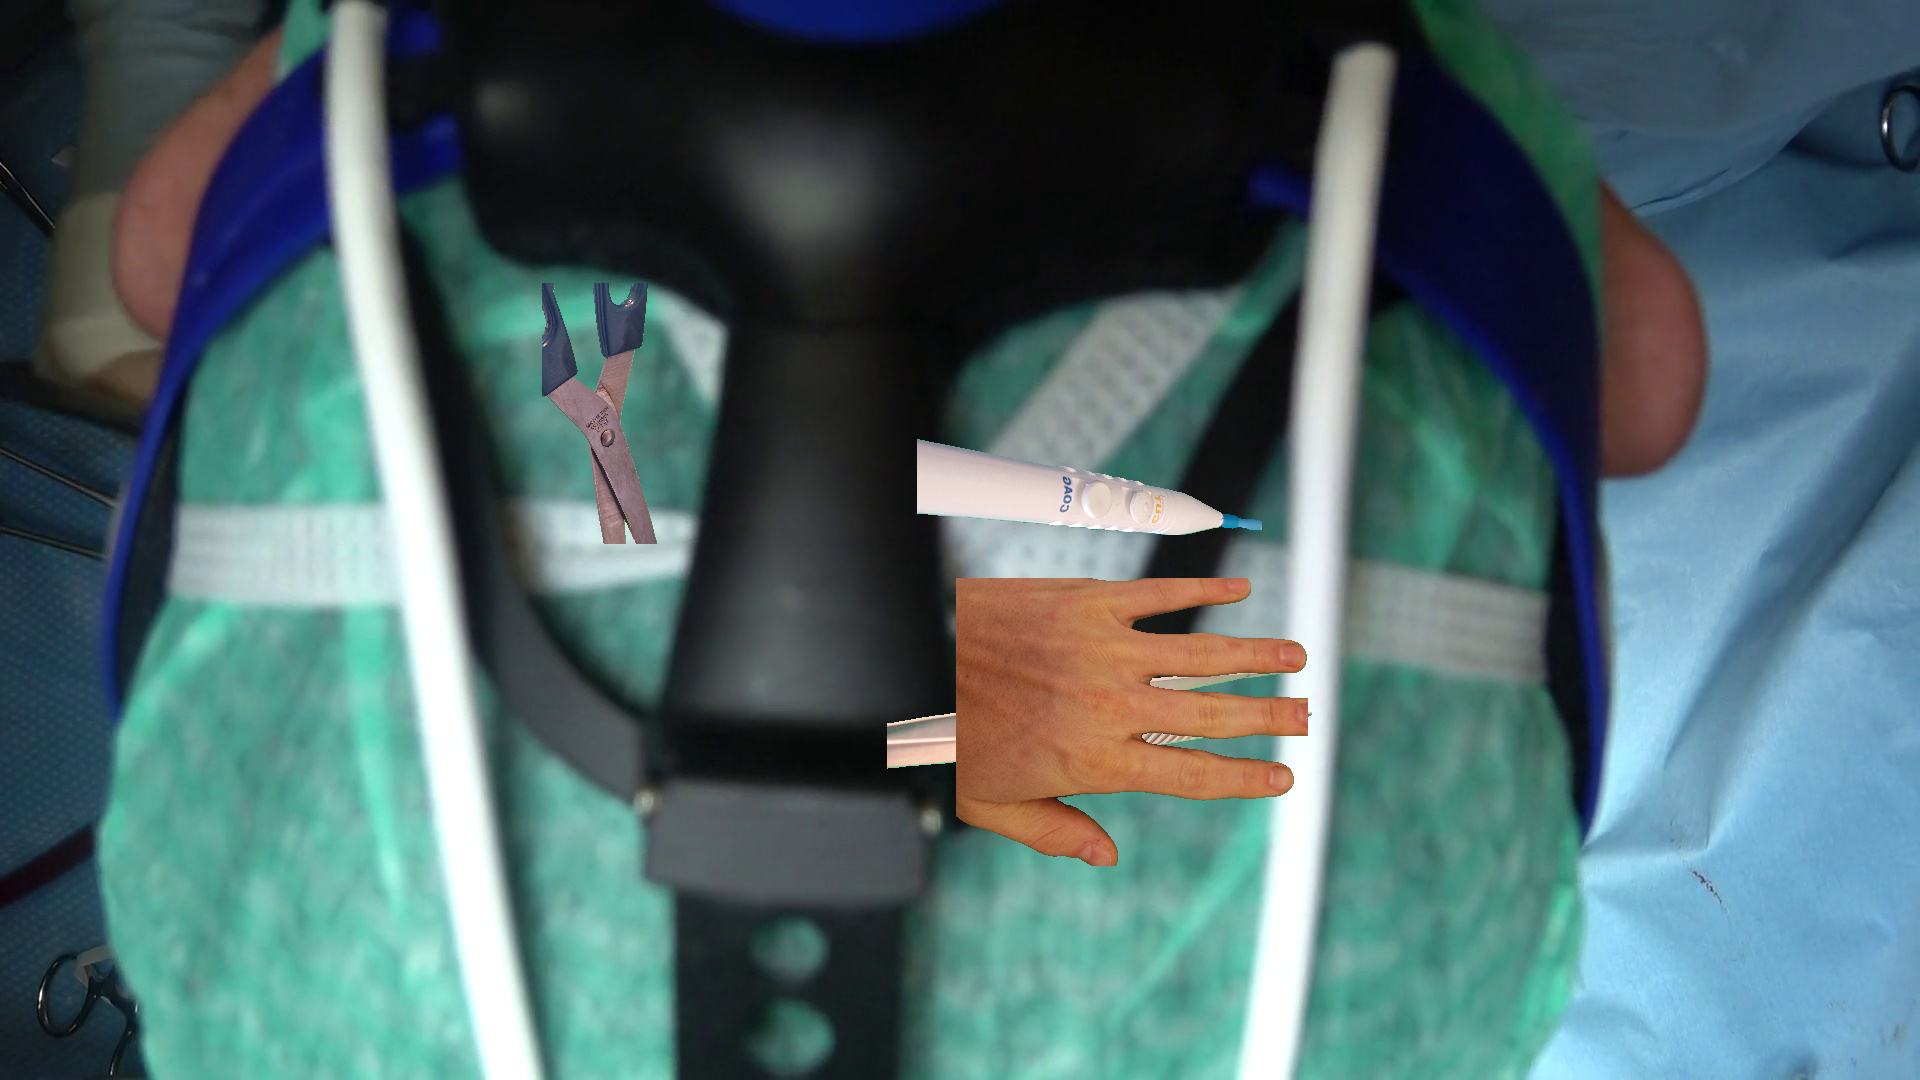diathermy: (916, 439, 1261, 534)
forceps: (887, 673, 1311, 767)
scissors: (542, 284, 655, 543)
